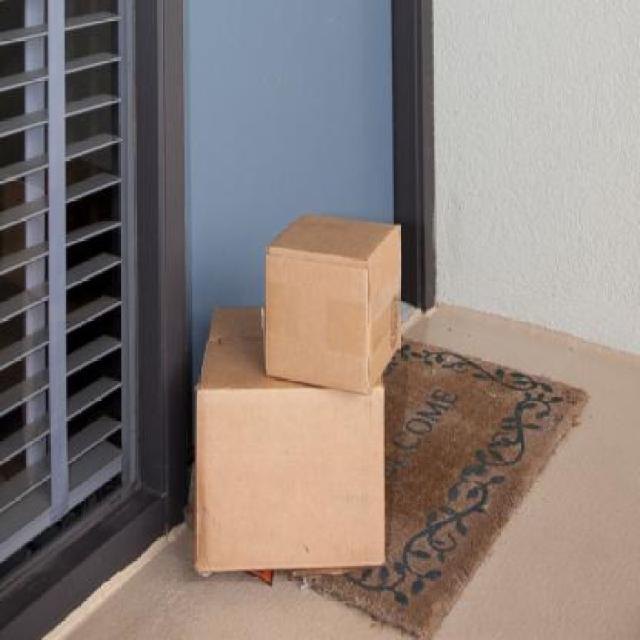cardboxes: (196, 300, 390, 580), (265, 212, 403, 394)
